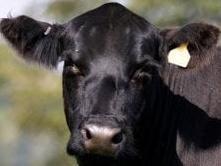muzzles: (63, 118, 130, 163)
